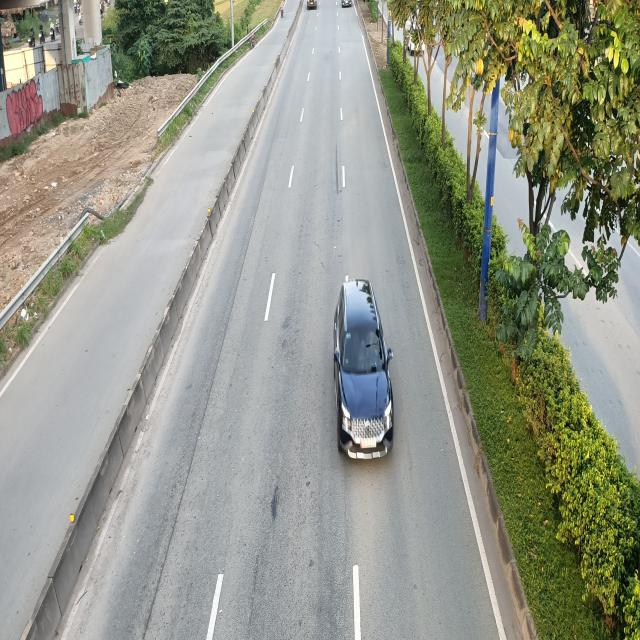car: (331, 276, 393, 458)
